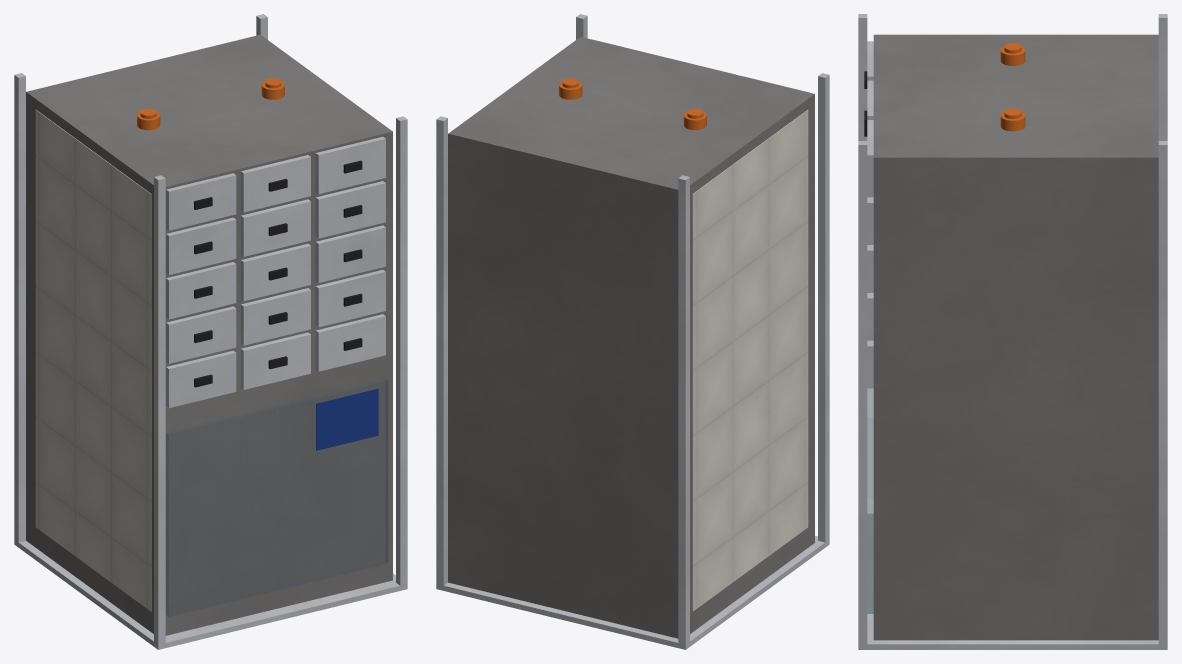
File: sci04_experiment_rack.glb
The picture shows the model from 3 angles, left to right: view 1: azimuth 30°, elevation 25°; view 2: azimuth 150°, elevation 25°; view 3: azimuth 270°, elevation 25°; orthographic projection. The views are drawn at different scales.
Parts seen in each view (by area): view 1: rack_body, side_blanket, drawers, glovebox, slot_frame, control_panel, drawer_handles; view 2: rack_body, side_blanket, slot_frame; view 3: rack_body, slot_frame, drawers, glovebox, port_2, port_1.
Boxes of the visible parts, <box> form: rack_body: <box>26,34,392,635</box>; side_blanket: <box>35,110,151,611</box>; drawers: <box>166,136,385,408</box>; glovebox: <box>166,379,388,616</box>; slot_frame: <box>14,14,407,649</box>; control_panel: <box>316,388,378,450</box>; drawer_handles: <box>194,160,362,387</box>; rack_body: <box>448,36,814,638</box>; side_blanket: <box>692,110,808,611</box>; slot_frame: <box>436,14,829,649</box>; rack_body: <box>873,34,1158,640</box>; slot_frame: <box>858,14,1167,649</box>; drawers: <box>867,41,873,388</box>; glovebox: <box>867,388,873,613</box>; port_2: <box>1000,108,1025,131</box>; port_1: <box>1000,43,1025,65</box>.
Size of the model in its own units: 1 by 1.8 by 1.
Materials: 7 (3 with a texture image).
